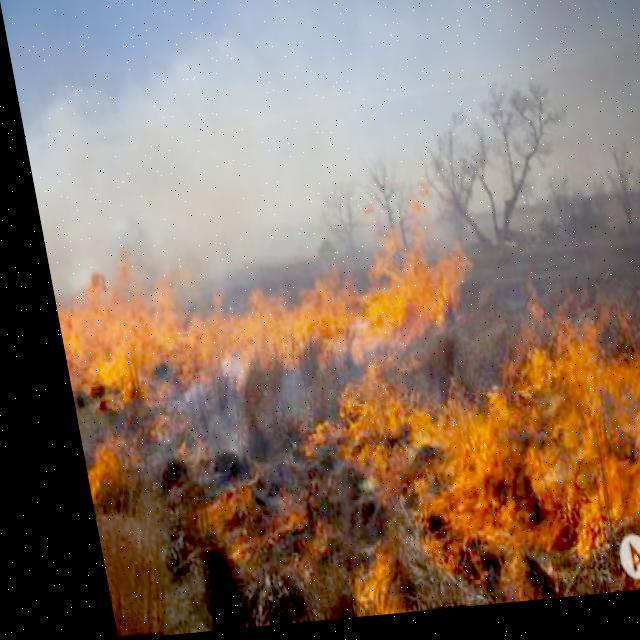Fire: (38, 206, 639, 612)
